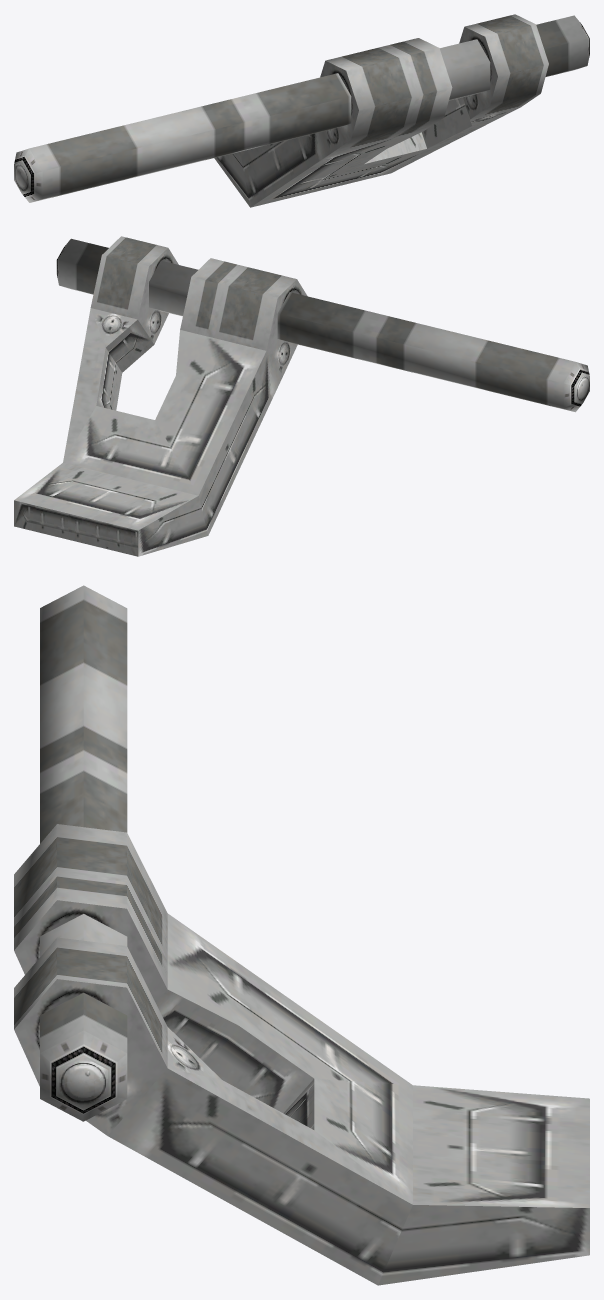
Rendered from PWArmR2.obj.
The picture shows the model from 3 angles, top to bottom: view 1: azimuth 30°, elevation 25°; view 2: azimuth 150°, elevation 25°; view 3: azimuth 270°, elevation 25°; orthographic projection. The views are drawn at different scales.
Visible parts, largest first — view 1: R_20; view 2: R_20; view 3: R_20.
Boxes of the visible parts, <box> form: R_20: <box>14,14,589,207</box>; R_20: <box>14,236,589,556</box>; R_20: <box>14,585,589,1285</box>.
Size of the model in its own units: 48.34 by 17.05 by 25.68.
1 material, 1 textured.
